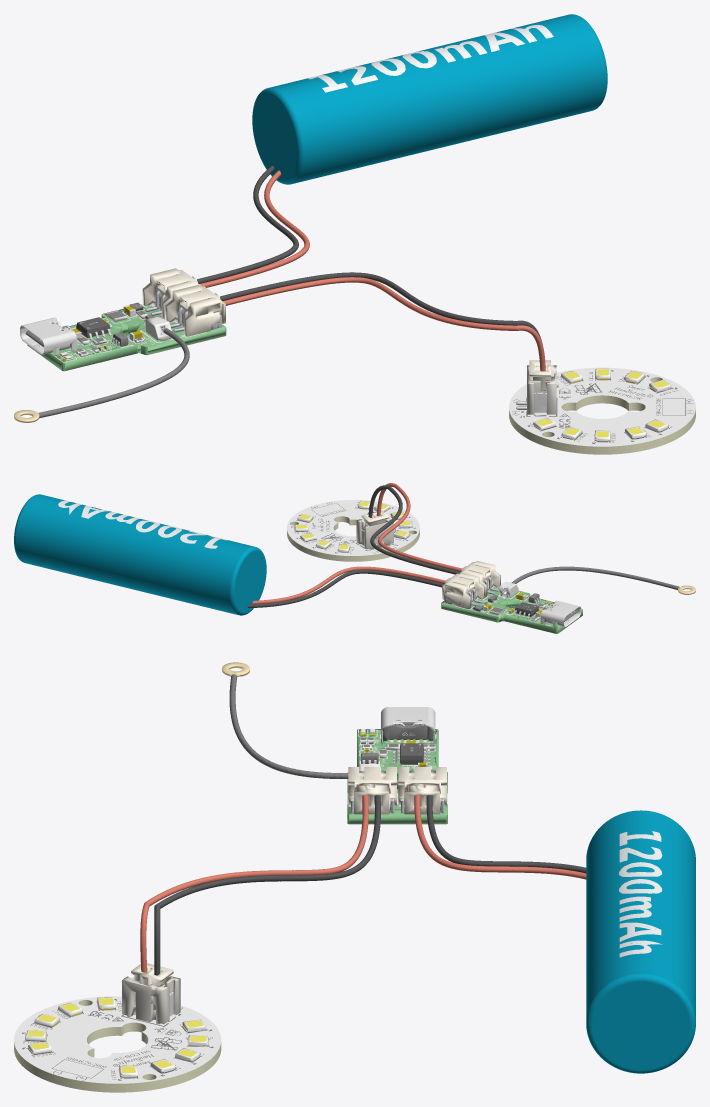
File: kit201lc-assembled.glb
3 views of the same model, one above another, from view 1: azimuth 30°, elevation 25°; view 2: azimuth 150°, elevation 25°; view 3: azimuth 270°, elevation 25° (orthographic). The views are drawn at different scales.
Parts seen in each view (by area): view 1: battery-material-29, led-material-0, driver-material-3, driver-material-21, battery-material-30, led-material-22, jst-material-28, jst-material-27, driver-material-13, battery-material-28, battery-material-27, lug-material-1 (+4 smaller); view 2: battery-material-29, led-material-0, driver-material-3, driver-material-21, battery-material-30, led-material-22, jst-material-27, battery-material-27, jst-material-28, battery-material-28, lug-material-1, driver-material-13 (+8 smaller); view 3: battery-material-29, led-material-0, battery-material-30, led-material-22, jst-material-27, driver-material-21, driver-material-3, jst-material-28, led-material-26, jst-material-21, battery-material-28, battery-material-27 (+6 smaller).
Boxes of the visible parts, x1,y1,x2,y2 form: battery-material-29: (252,14,607,184); led-material-0: (509,367,695,446); driver-material-3: (27,304,226,371); driver-material-21: (142,268,220,336); battery-material-30: (308,25,553,92); led-material-22: (509,377,695,454); jst-material-28: (223,277,545,371); jst-material-27: (220,272,542,362); driver-material-13: (20,317,89,355); battery-material-28: (199,170,309,287); battery-material-27: (197,165,298,283); lug-material-1: (38,328,189,418); battery-material-29: (14,494,266,615); led-material-0: (287,500,419,555); driver-material-3: (441,587,582,633); driver-material-21: (445,561,500,609); battery-material-30: (58,500,227,548); led-material-22: (287,516,419,561); jst-material-27: (368,485,460,574); battery-material-27: (247,570,443,607); jst-material-28: (376,483,462,571); battery-material-28: (252,566,445,603); lug-material-1: (511,566,679,589); driver-material-13: (534,600,581,627); battery-material-29: (586,810,695,1073); led-material-0: (14,996,221,1083); battery-material-30: (619,831,662,957); led-material-22: (14,1000,221,1092); jst-material-27: (154,795,380,975); driver-material-21: (348,767,446,813); driver-material-3: (347,729,447,824); jst-material-28: (140,795,368,972); led-material-26: (122,976,180,1024); jst-material-21: (131,776,389,1009); battery-material-28: (414,795,586,879); battery-material-27: (426,795,586,873).
Size of the model in its own units: 158 by 34.59 by 112.
